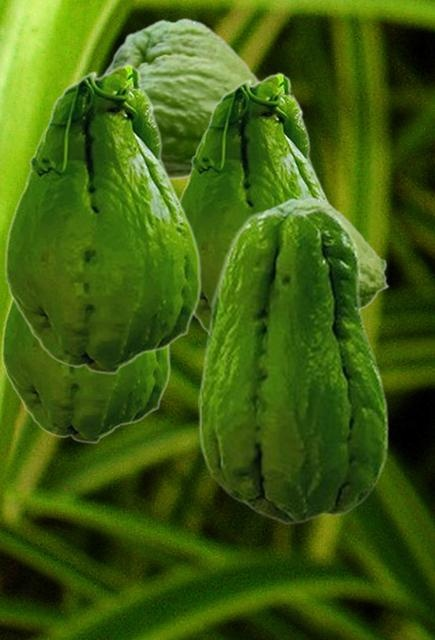sayote: (4, 63, 201, 374), (198, 206, 388, 524), (179, 72, 333, 333), (101, 17, 260, 180), (1, 298, 170, 443), (265, 196, 389, 310)
